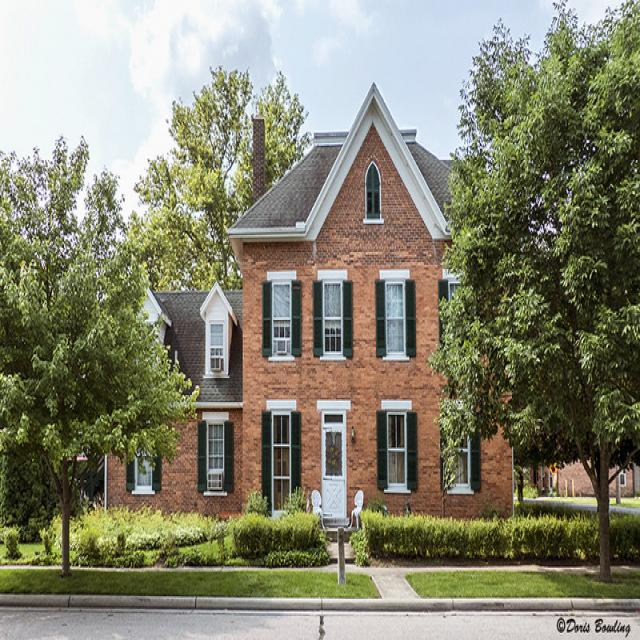Normal_building: (100, 76, 518, 547)
